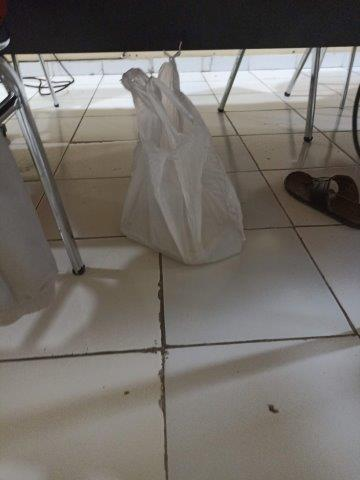plastik: (117, 61, 246, 267)
